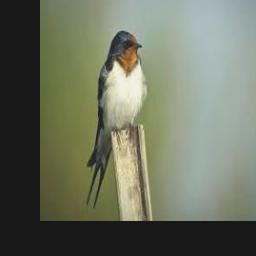Swallow: (85, 31, 148, 209)
